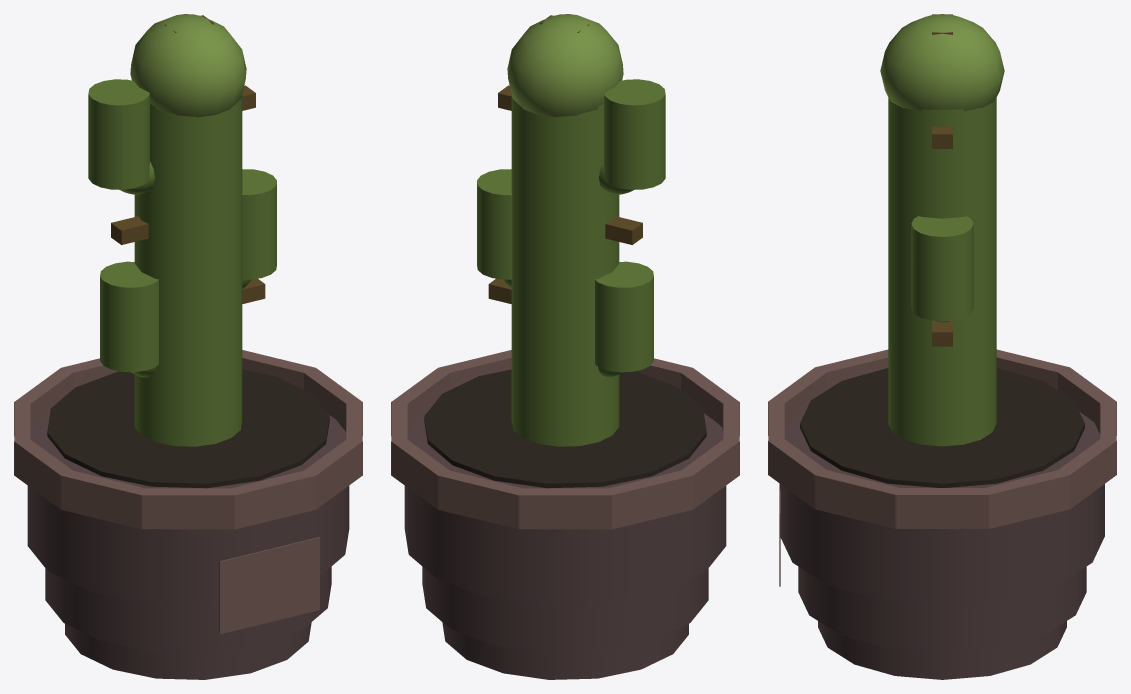
The model's file is CMU3DPottedPlant11.glb.
3 views of the same model, side by side, from view 1: azimuth 30°, elevation 25°; view 2: azimuth 150°, elevation 25°; view 3: azimuth 270°, elevation 25° (orthographic).
Visible parts, largest first — view 1: upright cactus stem, upper pot wall, recessed soil, short cactus arm (×3), lower tapered pot wall, rounded cactus crown, pot front highlight, narrow pot foot, hollow curved planter rim 09, hollow curved planter rim 08, hollow curved planter rim 10, hollow curved planter rim 11 (+8 smaller); view 2: upright cactus stem, upper pot wall, recessed soil, short cactus arm (×3), lower tapered pot wall, rounded cactus crown, narrow pot foot, hollow curved planter rim 05, hollow curved planter rim 06, hollow curved planter rim 04, hollow curved planter rim 03, hollow curved planter rim 07 (+7 smaller); view 3: upright cactus stem, upper pot wall, recessed soil, lower tapered pot wall, rounded cactus crown, short cactus arm, narrow pot foot, hollow curved planter rim 01, hollow curved planter rim 12, hollow curved planter rim 02, hollow curved planter rim 11, hollow curved planter rim 03 (+7 smaller).
Part boxes in pixels (left/top/right/bottom): upright cactus stem: left=134, top=95, right=242, bottom=446; upper pot wall: left=27, top=413, right=349, bottom=604; recessed soil: left=47, top=369, right=329, bottom=488; short cactus arm (×3): left=88, top=79, right=276, bottom=372; lower tapered pot wall: left=45, top=566, right=331, bottom=652; rounded cactus crown: left=130, top=14, right=246, bottom=117; pot front highlight: left=219, top=537, right=319, bottom=634; narrow pot foot: left=65, top=622, right=311, bottom=679; hollow curved planter rim 09: left=141, top=488, right=235, bottom=529; hollow curved planter rim 08: left=60, top=469, right=149, bottom=529; hollow curved planter rim 10: left=232, top=469, right=316, bottom=529; hollow curved planter rim 11: left=303, top=439, right=362, bottom=509; upright cactus stem: left=511, top=95, right=619, bottom=446; upper pot wall: left=404, top=413, right=726, bottom=604; recessed soil: left=424, top=369, right=706, bottom=488; short cactus arm (×3): left=477, top=79, right=665, bottom=372; lower tapered pot wall: left=422, top=566, right=708, bottom=652; rounded cactus crown: left=507, top=14, right=623, bottom=117; narrow pot foot: left=442, top=622, right=688, bottom=679; hollow curved planter rim 05: left=518, top=488, right=612, bottom=529; hollow curved planter rim 06: left=604, top=469, right=693, bottom=529; hollow curved planter rim 04: left=437, top=470, right=521, bottom=529; hollow curved planter rim 03: left=391, top=439, right=451, bottom=509; hollow curved planter rim 07: left=681, top=440, right=739, bottom=509; upright cactus stem: left=888, top=98, right=996, bottom=446; upper pot wall: left=780, top=412, right=1104, bottom=604; recessed soil: left=800, top=368, right=1084, bottom=487; lower tapered pot wall: left=798, top=566, right=1086, bottom=652; rounded cactus crown: left=880, top=14, right=1004, bottom=111; short cactus arm: left=911, top=216, right=973, bottom=321; narrow pot foot: left=818, top=621, right=1066, bottom=679; hollow curved planter rim 01: left=895, top=488, right=989, bottom=528; hollow curved planter rim 12: left=814, top=469, right=903, bottom=528; hollow curved planter rim 02: left=982, top=469, right=1070, bottom=528; hollow curved planter rim 11: left=768, top=437, right=826, bottom=508; hollow curved planter rim 03: left=1058, top=437, right=1116, bottom=508.
Size of the model in its own units: 0.3927 by 0.755 by 0.3927.
